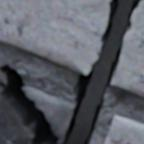brick: (104, 115, 143, 143)
broken_brick: (0, 0, 110, 74), (110, 0, 143, 95), (23, 86, 75, 143), (0, 76, 34, 143)
crack: (64, 0, 141, 143), (0, 64, 60, 143)
